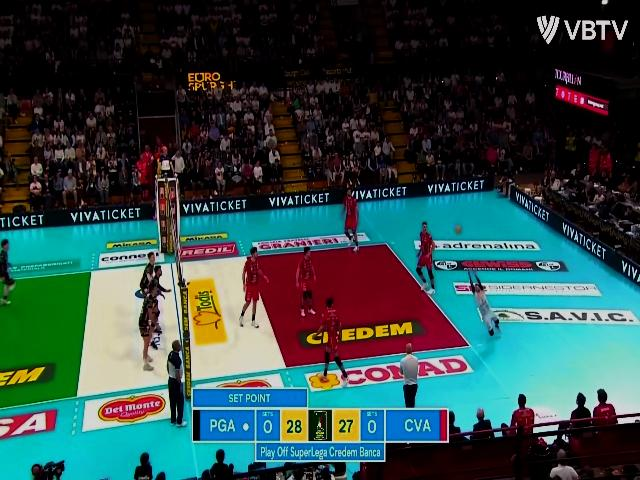volleyball court: (0, 230, 469, 411)
